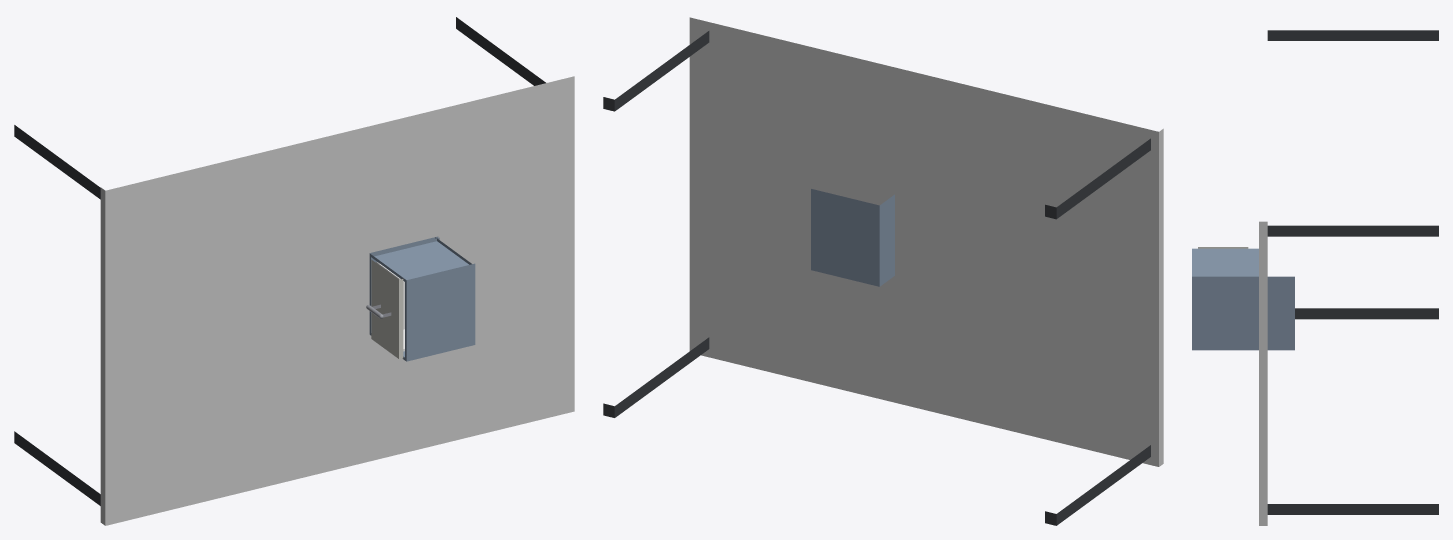
3 renders of one model, left to right at view 1: azimuth 30°, elevation 25°; view 2: azimuth 150°, elevation 25°; view 3: azimuth 270°, elevation 25°, orthographic. The views are drawn at different scales.
Visible parts, largest first — view 1: s0, s1, s2; view 2: s0, s1; view 3: s0, s1.
Boxes of the visible parts, bbox=[...] form: s0: bbox=[14, 17, 574, 525]; s1: bbox=[369, 236, 475, 361]; s2: bbox=[366, 259, 404, 359]; s0: bbox=[603, 17, 1163, 525]; s1: bbox=[811, 189, 894, 286]; s0: bbox=[1259, 30, 1438, 525]; s1: bbox=[1192, 248, 1294, 350].
Bounding box in the file's own units: 2.05 × 1.4 × 1.03.
